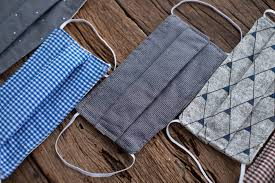cloth_mask: (52, 2, 243, 177)
